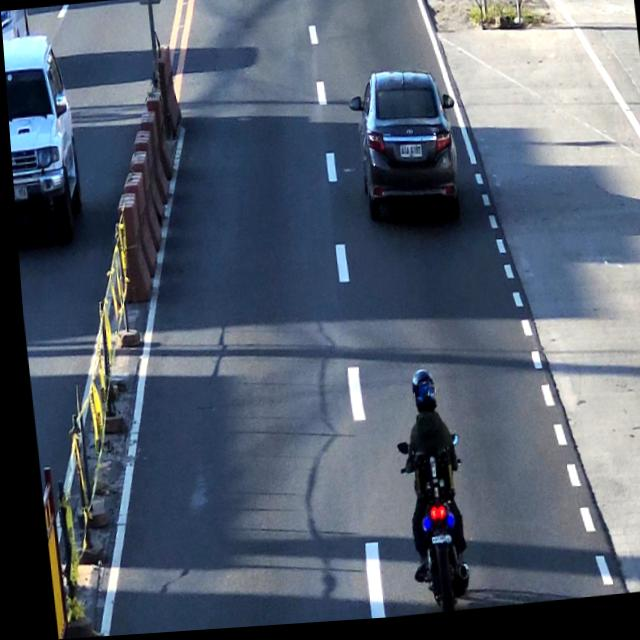Car: (349, 72, 459, 231)
License-Plate: (396, 146, 421, 167)
Motorcycle: (386, 374, 467, 620)
